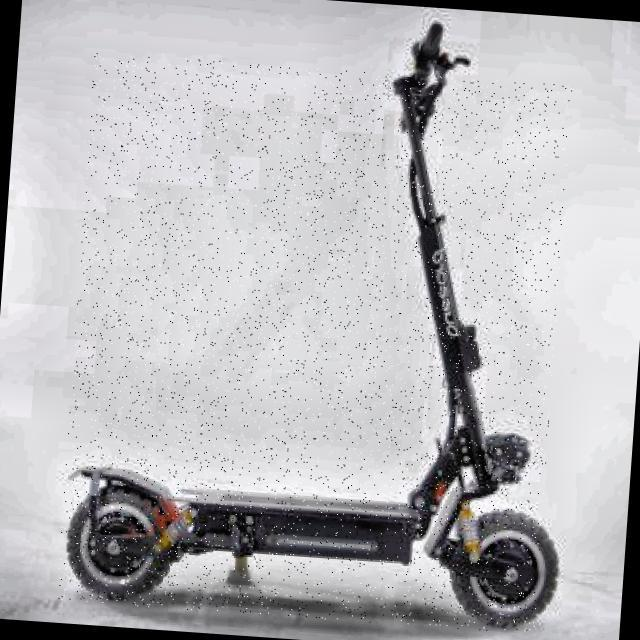bike: (68, 12, 560, 629), (66, 451, 559, 626)
